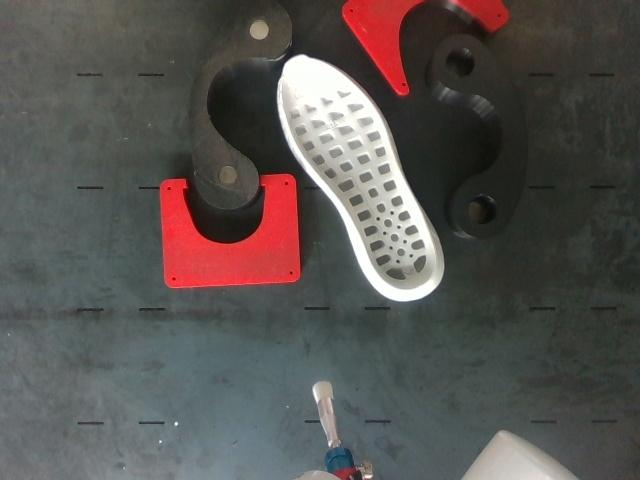shoes: (281, 56, 437, 289)
